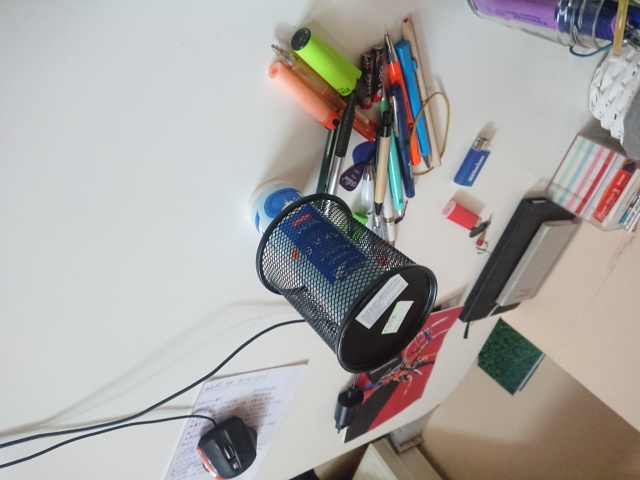Solana Pag Fine Sea Salt 250g: (244, 177, 401, 333)
